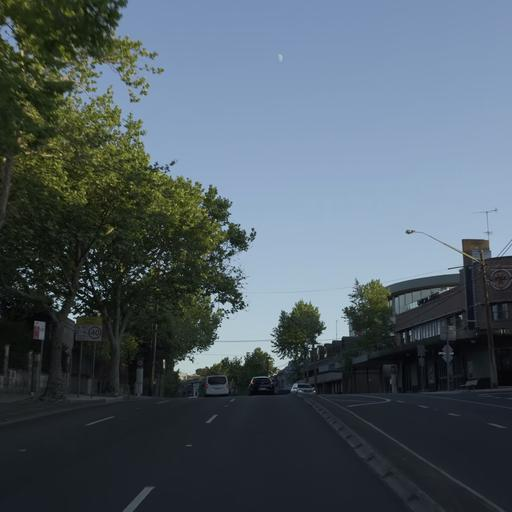Street light: (404, 227, 499, 387)
